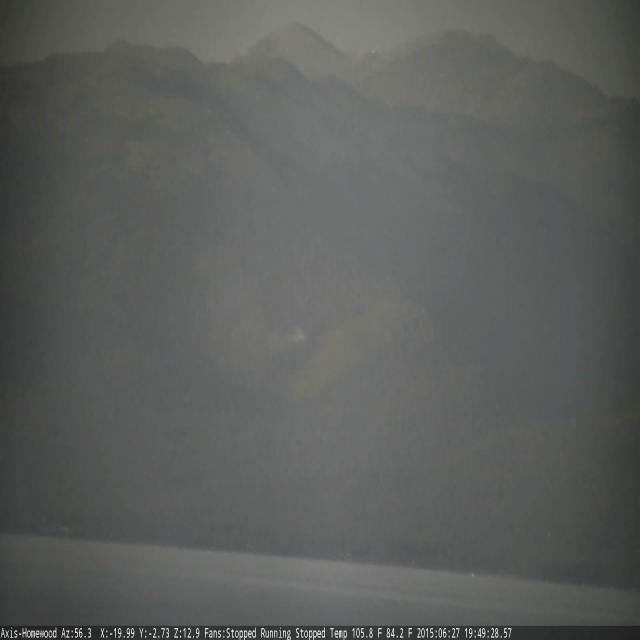smoke: (287, 326, 308, 346)
